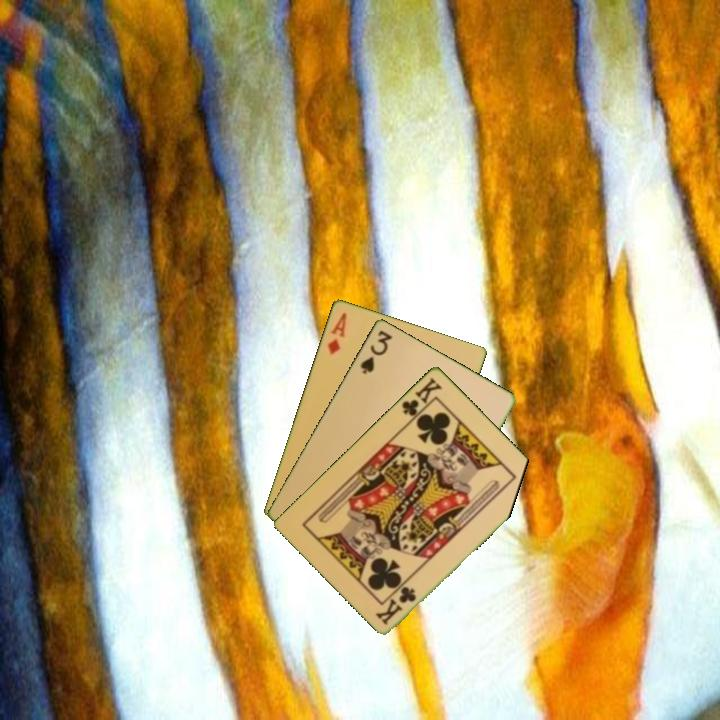3s: (356, 326, 395, 376)
Ad: (324, 309, 349, 357)
Kc: (398, 373, 445, 425), (373, 582, 419, 627)
